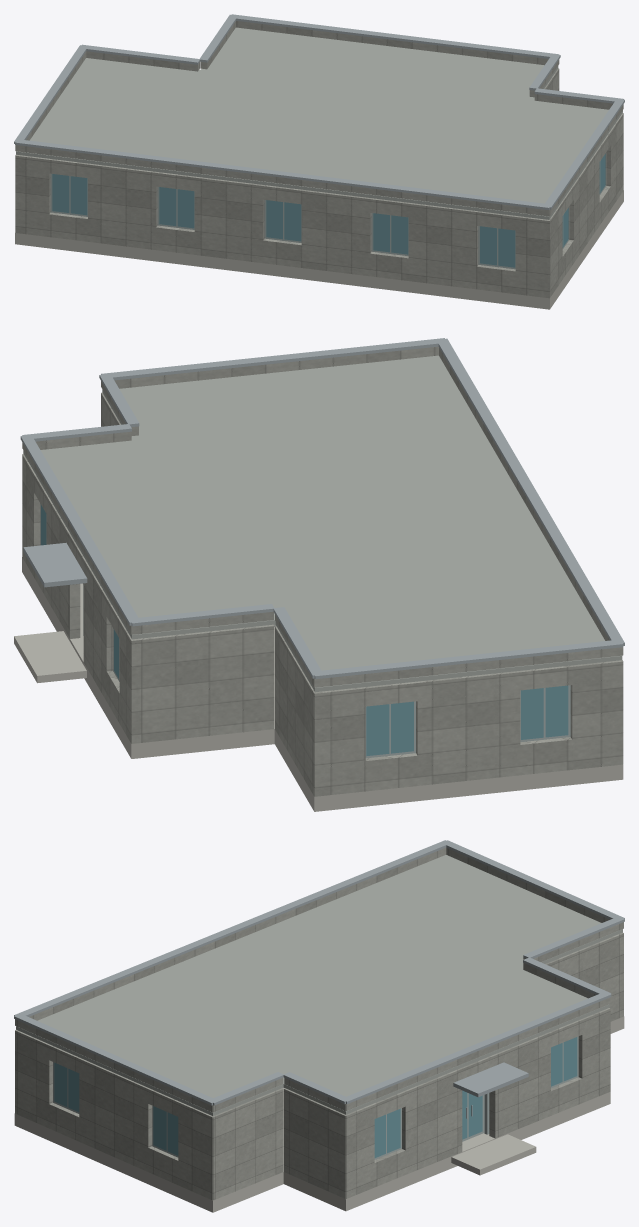
3 renders of one model, top to bottom at view 1: azimuth 30°, elevation 25°; view 2: azimuth 150°, elevation 25°; view 3: azimuth 270°, elevation 25°, orthographic. The views are drawn at different scales.
Visible parts, largest first — view 1: small_annex__roof, small_annex__stone, small_annex__metal, small_annex__threshold-entry, small_annex__glass, small_annex__frame; view 2: small_annex__roof, small_annex__stone, small_annex__metal, small_annex__threshold-entry, small_annex__glass, small_annex__frame; view 3: small_annex__roof, small_annex__stone, small_annex__metal, small_annex__threshold-entry, small_annex__glass, small_annex__frame.
Boxes of the visible parts, left/top/right/bottom form: small_annex__roof: left=16, top=27, right=622, bottom=219; small_annex__stone: left=15, top=21, right=623, bottom=298; small_annex__metal: left=14, top=14, right=624, bottom=209; small_annex__threshold-entry: left=15, top=190, right=623, bottom=309; small_annex__glass: left=52, top=154, right=605, bottom=267; small_annex__frame: left=50, top=153, right=606, bottom=269; small_annex__roof: left=23, top=355, right=622, bottom=692; small_annex__stone: left=22, top=346, right=623, bottom=796; small_annex__metal: left=20, top=338, right=624, bottom=679; small_annex__threshold-entry: left=14, top=557, right=623, bottom=811; small_annex__glass: left=41, top=505, right=568, bottom=756; small_annex__frame: left=40, top=503, right=570, bottom=758; small_annex__roof: left=16, top=855, right=622, bottom=1115; small_annex__stone: left=15, top=847, right=623, bottom=1200; small_annex__metal: left=14, top=840, right=624, bottom=1118; small_annex__threshold-entry: left=14, top=1016, right=624, bottom=1212; small_annex__glass: left=54, top=1037, right=577, bottom=1157; small_annex__frame: left=53, top=1036, right=578, bottom=1159.
Size of the model in its own units: 23.1 by 4.5 by 22.67.
Materials: 7 (1 with a texture image).
